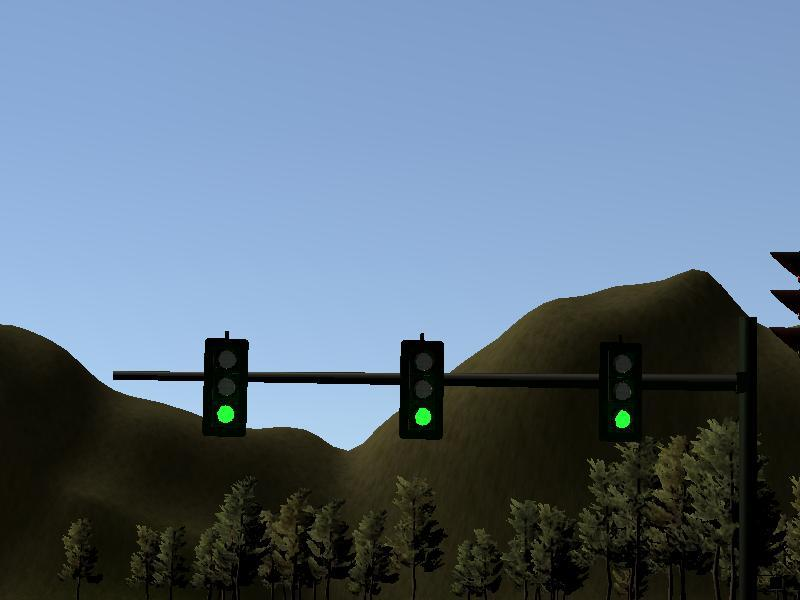Green: (400, 343, 444, 439), (205, 338, 246, 432), (602, 344, 640, 433)
